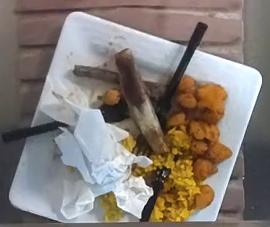rice: (132, 127, 200, 221)
sweet_potato: (165, 76, 232, 210)
